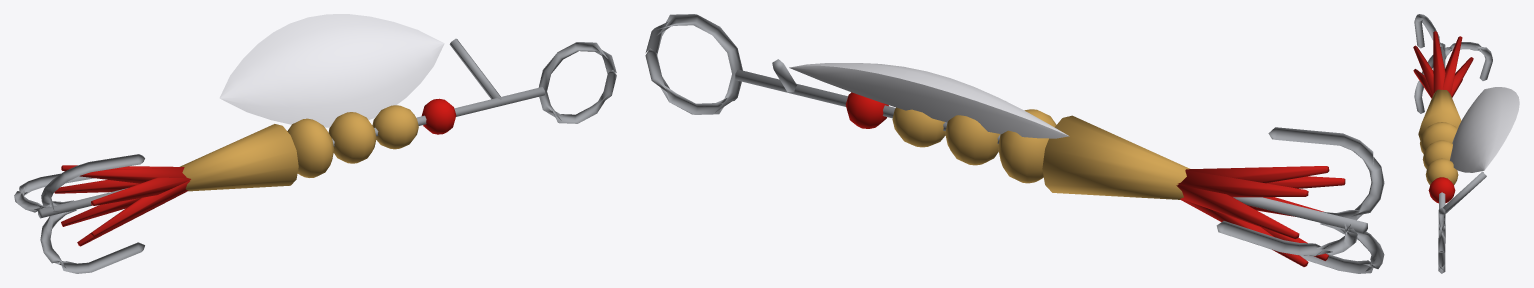
Rendered from spinner.gltf.
The picture shows the model from 3 angles, left to right: view 1: azimuth 30°, elevation 25°; view 2: azimuth 150°, elevation 25°; view 3: azimuth 270°, elevation 25°; orthographic projection. The views are drawn at different scales.
Visible parts, largest first — view 1: spinner, spinner_blade; view 2: spinner, spinner_blade; view 3: spinner, spinner_blade.
Part boxes in pixels (box(x1,y1,x2,y2)): spinner: box(14, 38, 616, 273); spinner_blade: box(219, 14, 444, 127); spinner: box(645, 14, 1384, 273); spinner_blade: box(789, 63, 1069, 138); spinner: box(1413, 14, 1492, 273); spinner_blade: box(1450, 87, 1519, 172).
Bounding box in the file's own units: 0.1073 × 0.0239 × 0.023.
